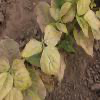Soyabean leaf: (40, 45, 60, 75), (43, 24, 62, 48), (21, 38, 42, 58)
